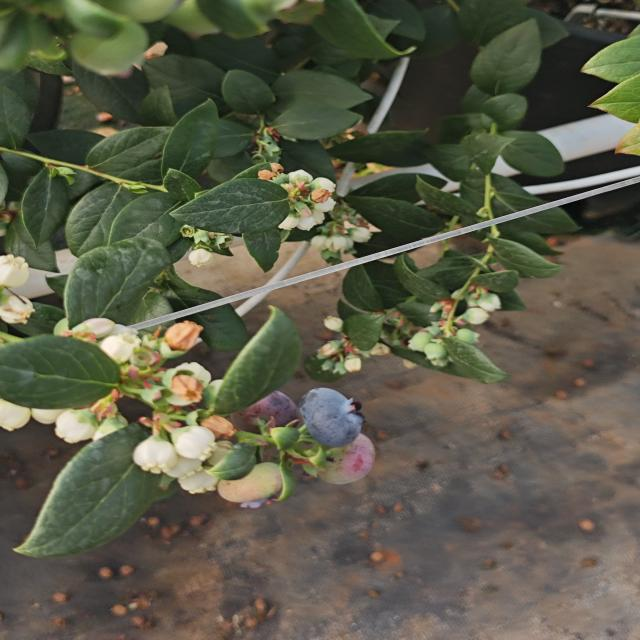ripe: (295, 376, 365, 456), (242, 382, 301, 428)
